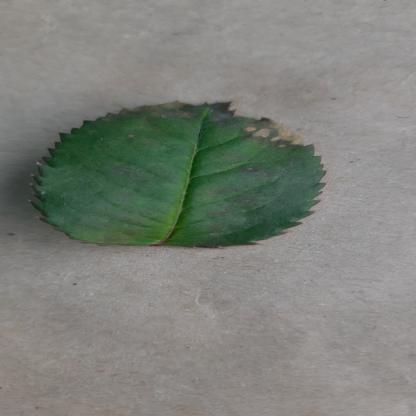powdery-mildew: (21, 94, 332, 252)
